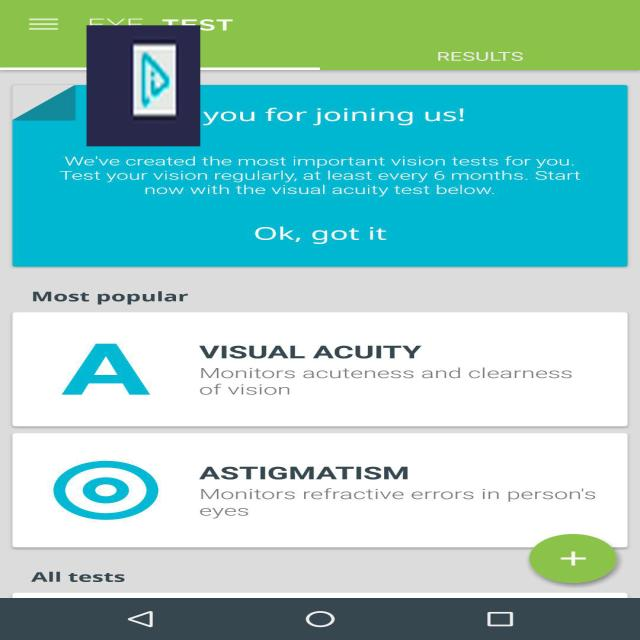sneaking: (86, 26, 200, 146)
